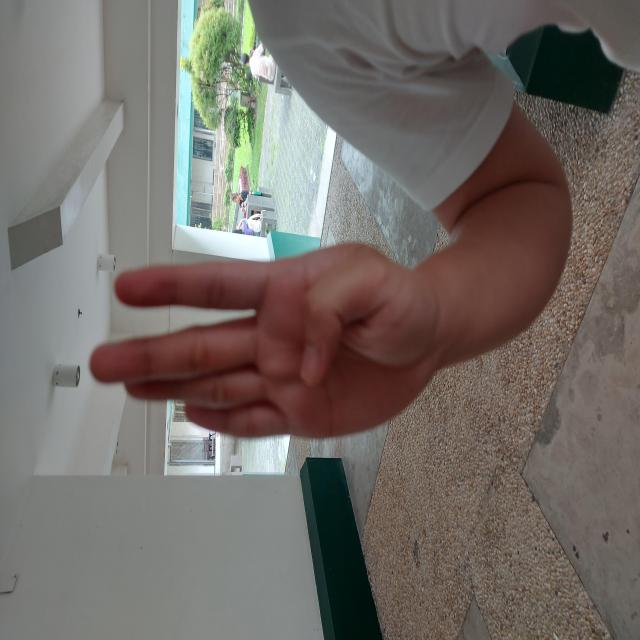B: (198, 86, 400, 436)
